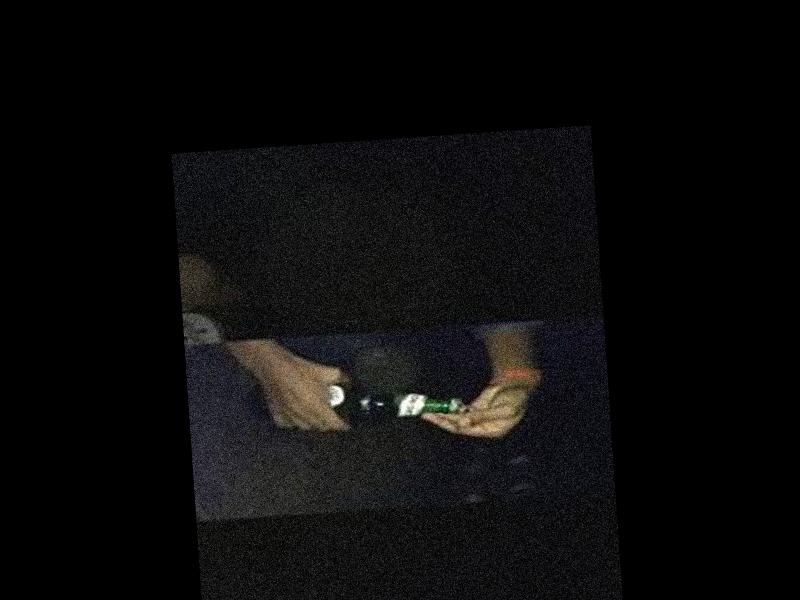Beer: (249, 366, 462, 432)
